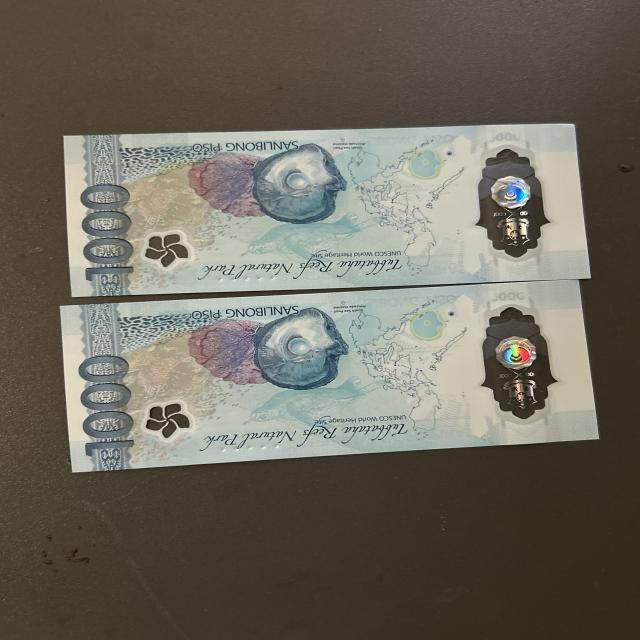clear_window: (470, 298, 560, 420), (461, 144, 548, 262)
sampaguita: (143, 401, 191, 442), (146, 230, 193, 264)
value: (78, 182, 138, 284)
